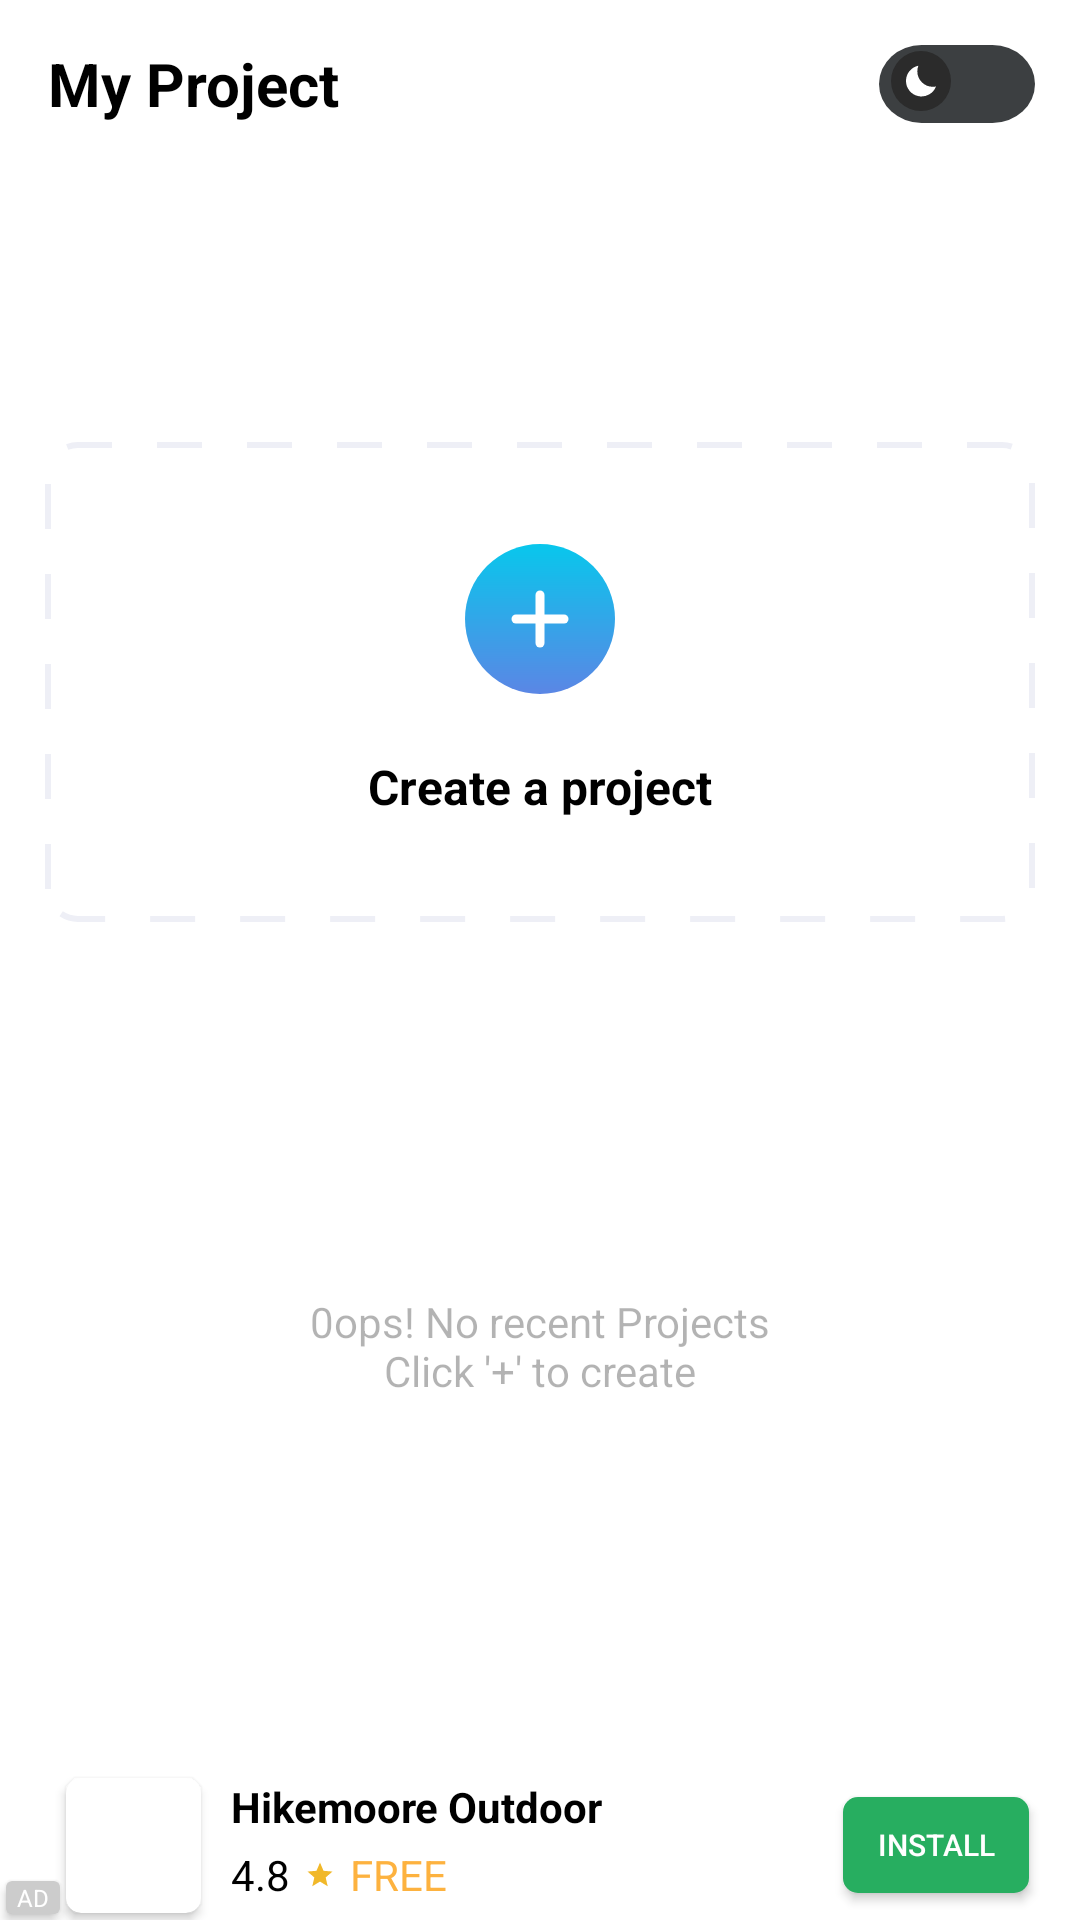

Named icons in this screenshot (1080 × 1920) and their bounding boxes, (x1, y1, x2, y2):
mode add: (465, 544, 615, 694)
star: (307, 1863, 333, 1886)
